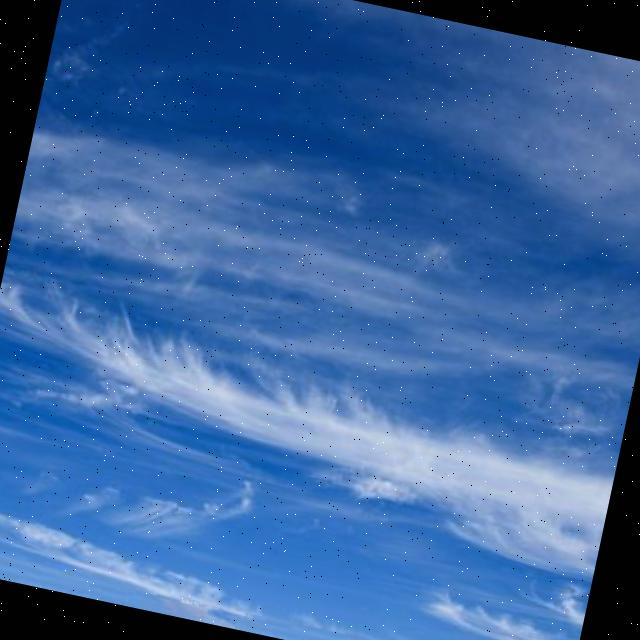Ci: (1, 1, 640, 596)
